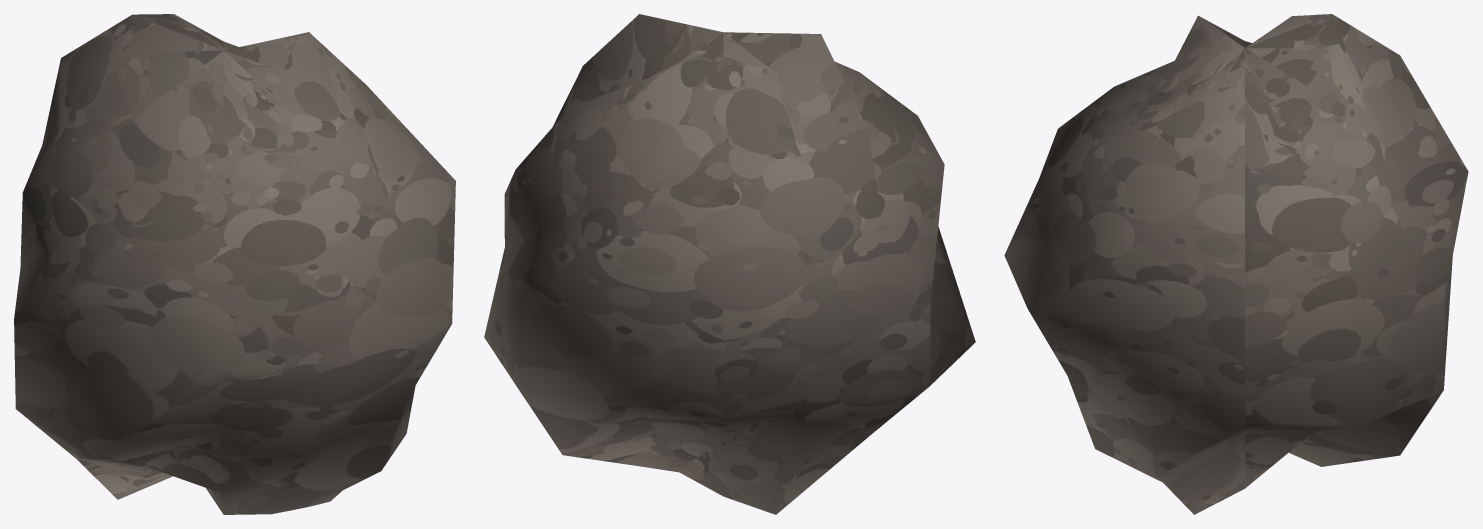
File: rock_b.obj
3 renders of one model, left to right at view 1: azimuth 30°, elevation 25°; view 2: azimuth 150°, elevation 25°; view 3: azimuth 270°, elevation 25°, orthographic. The views are drawn at different scales.
Size of the model in its own units: 2.17 by 2.24 by 2.12.
1 material, 1 textured.
